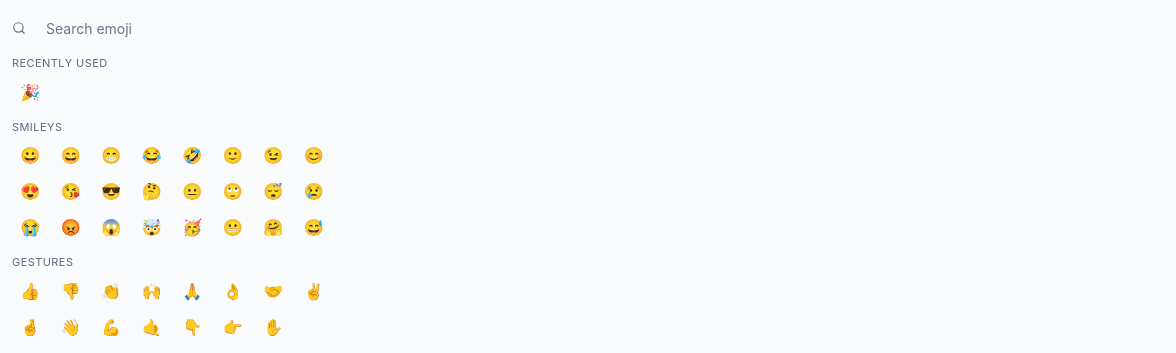
Test case: hides the recent group while searching
This screenshot has width=1176, height=353.
Check: the element "Recently used" is shown, box [12,56,108,108]
In the field: x=599, y=28 [34,12,1164,44], type "pizza"
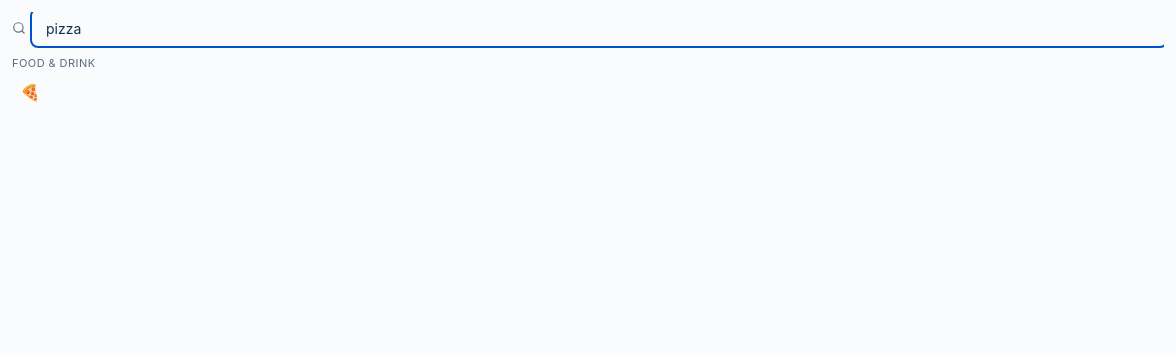
Check: the text "Recently used" is gone
